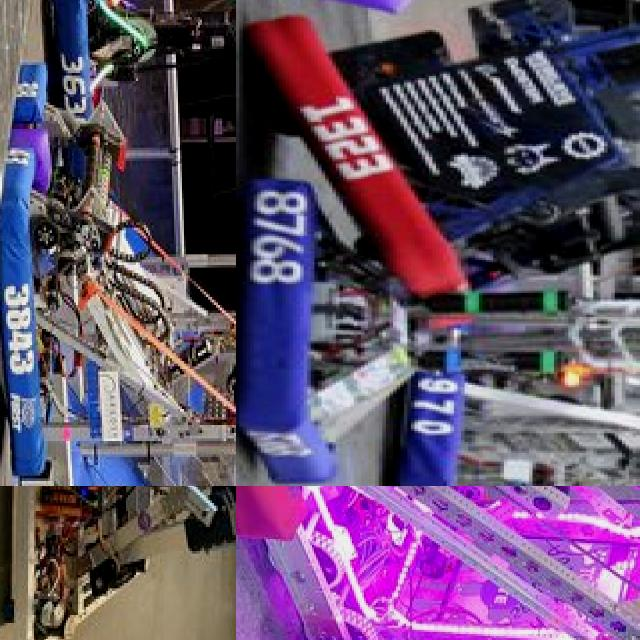FRC-Robots: (237, 0, 640, 300), (0, 56, 236, 486), (236, 171, 457, 481), (236, 486, 640, 640), (371, 283, 640, 486), (0, 486, 236, 640), (37, 0, 236, 158)
